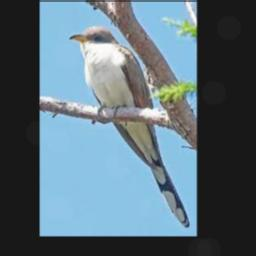Cuckoo: (68, 25, 189, 227)
